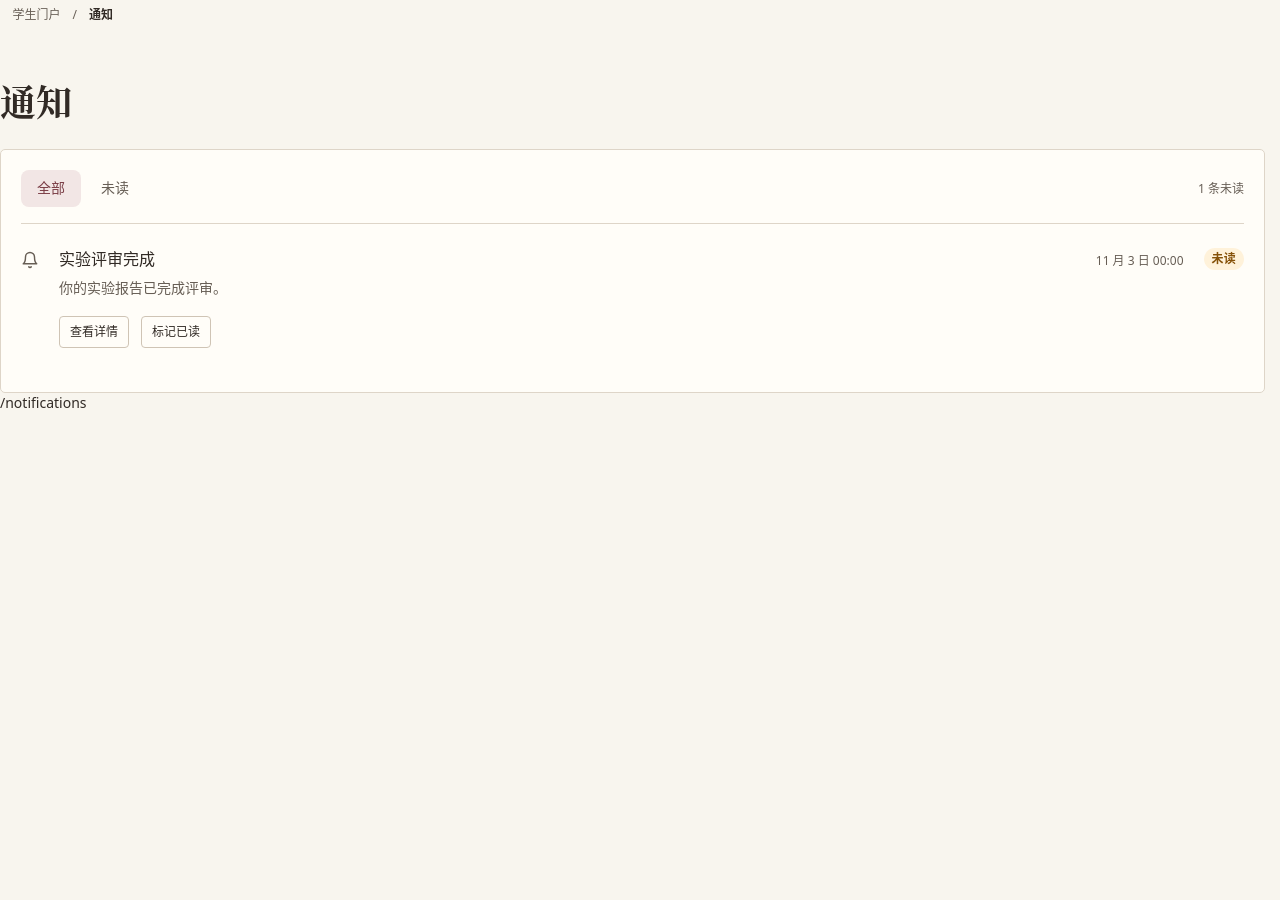
实验通知详情提供明确的实验任务入口
Step 1. Click the button "查看详情" → (94, 332), box x1=59 y1=316 x2=129 y2=348
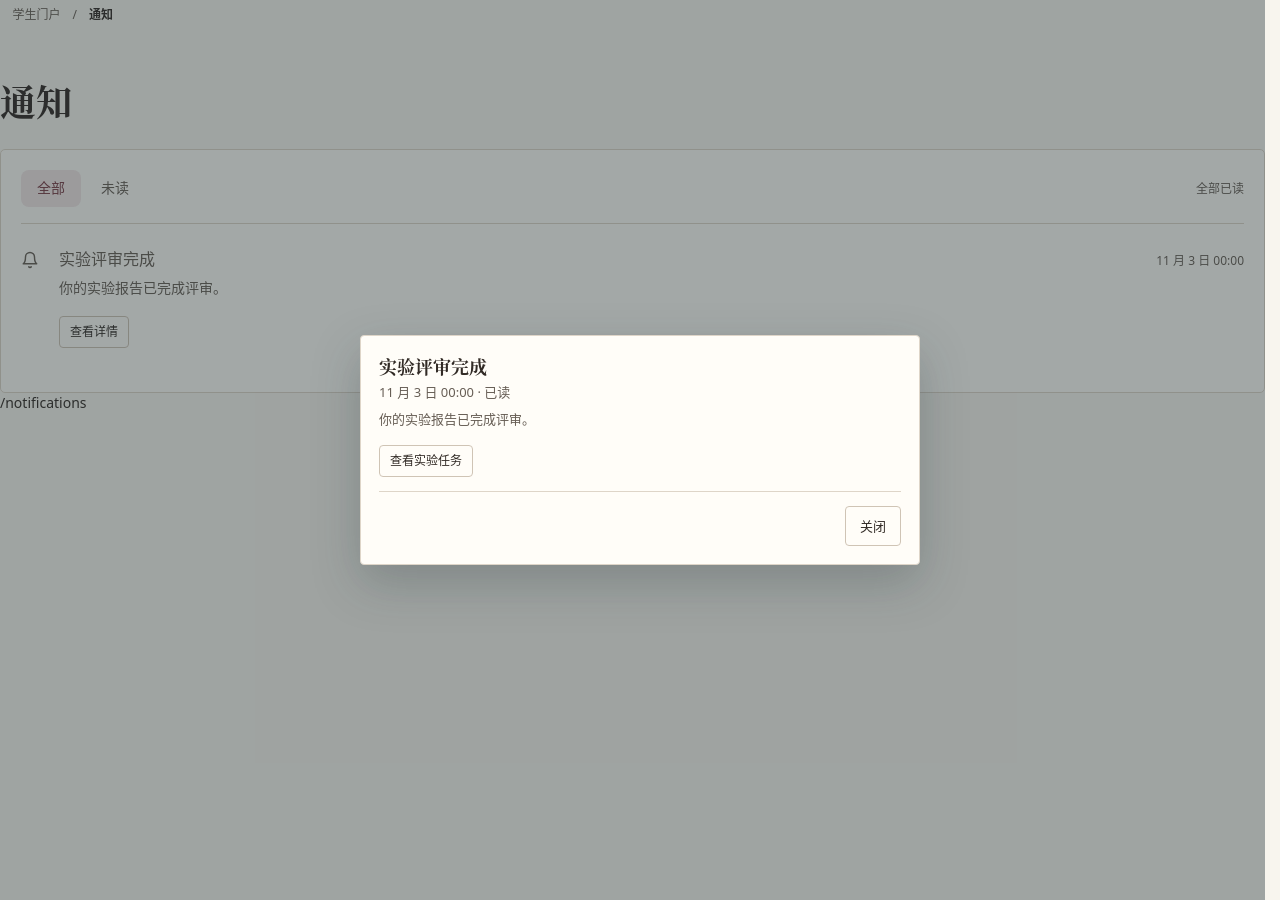
Now the text "你的实验报告已完成评审。" is shown, box x1=379 y1=410 x2=535 y2=428
